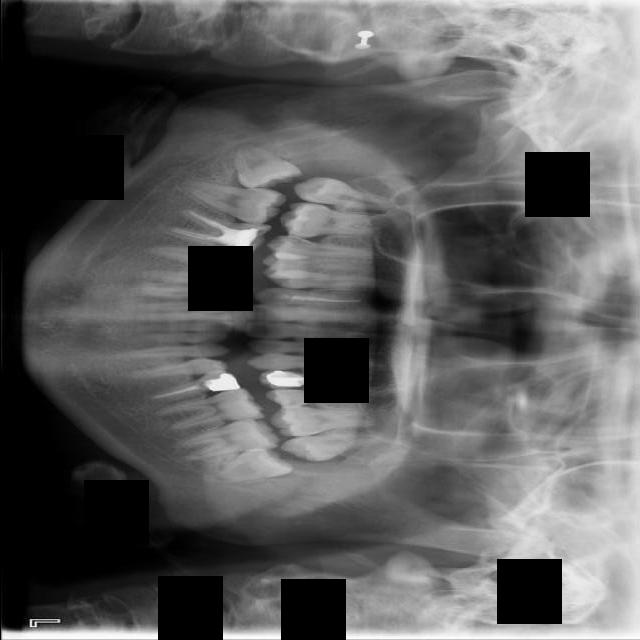52: (218, 211, 273, 269), (197, 368, 239, 392), (254, 286, 300, 306), (259, 370, 303, 390)
73: (165, 200, 239, 253), (146, 378, 210, 406), (295, 291, 363, 307), (300, 371, 369, 386), (41, 602, 51, 610)
BioHorizons Implant: (280, 426, 390, 466)
Biomet 3i Implant: (215, 444, 293, 484)
Blue Sky Bio Implant: (175, 415, 282, 461)
Caries: (290, 173, 400, 216)
Implant: (174, 177, 287, 228)
Keystone Dental Implant: (220, 135, 305, 210)
